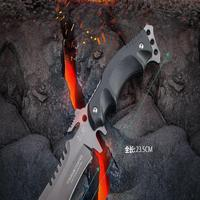knife: (42, 23, 163, 200)
